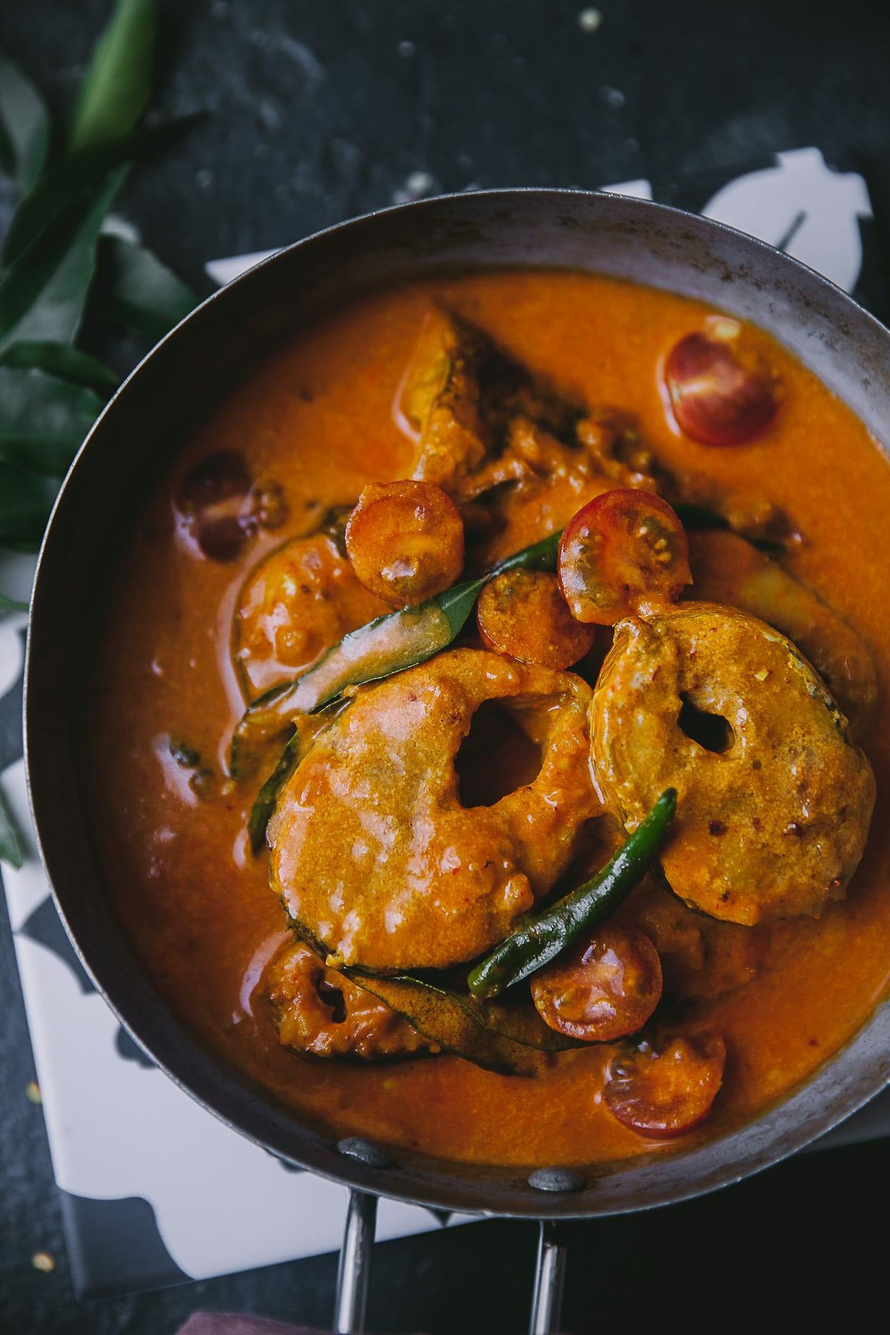FishCurry: (66, 265, 890, 1171)
